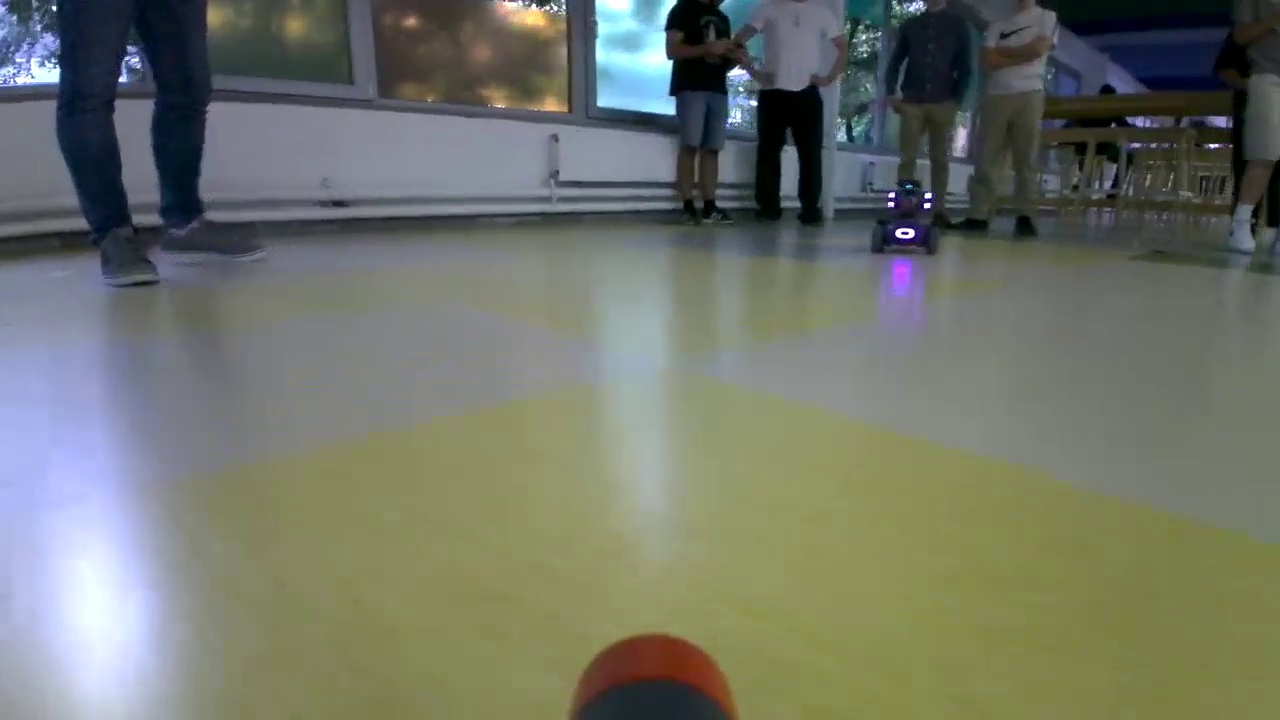robot: (868, 180, 943, 254)
